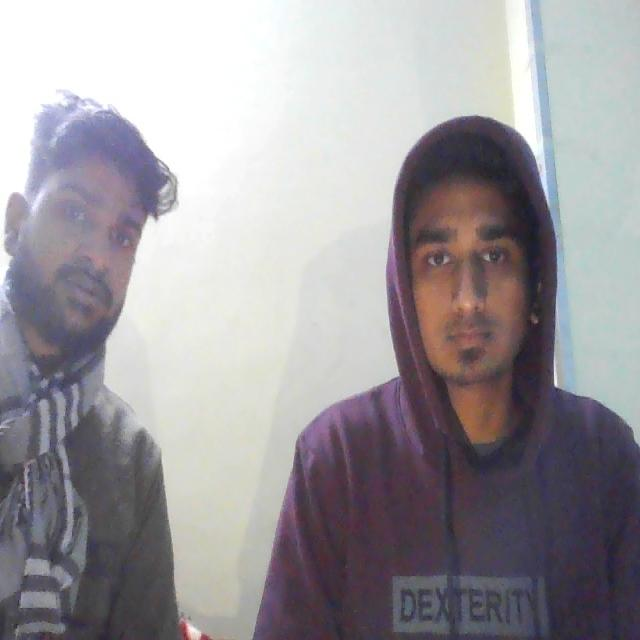real: (388, 100, 562, 428), (12, 96, 150, 356)
